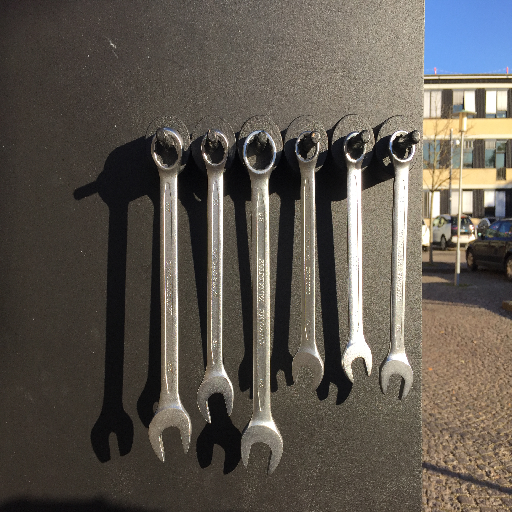bottom: (147, 411, 194, 466), (239, 418, 285, 474), (194, 374, 239, 424), (376, 358, 416, 403), (288, 349, 328, 392), (338, 345, 376, 386)
top: (148, 125, 186, 174), (240, 128, 278, 176), (198, 127, 230, 169), (385, 129, 417, 164), (292, 129, 323, 165), (339, 129, 370, 164)
